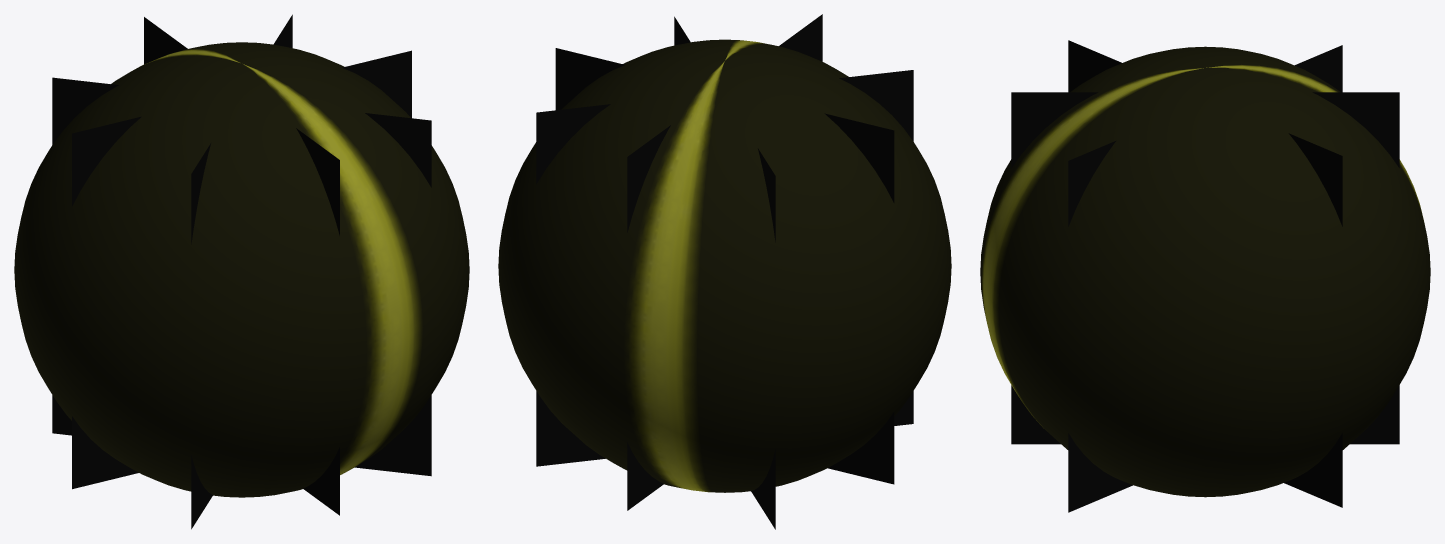
The model's file is jewel2_CatEye.fbx.
The picture shows the model from 3 angles, left to right: view 1: azimuth 30°, elevation 25°; view 2: azimuth 150°, elevation 25°; view 3: azimuth 270°, elevation 25°; orthographic projection.
Visible parts, largest first — view 1: jewel2_CatEye; view 2: jewel2_CatEye; view 3: jewel2_CatEye.
Boxes of the visible parts, <box> form: jewel2_CatEye: <box>14,14,469,529</box>; jewel2_CatEye: <box>498,14,951,529</box>; jewel2_CatEye: <box>980,40,1430,512</box>.
Size of the model in its own units: 0.609 by 0.609 by 0.609.
2 materials, 2 textured.
